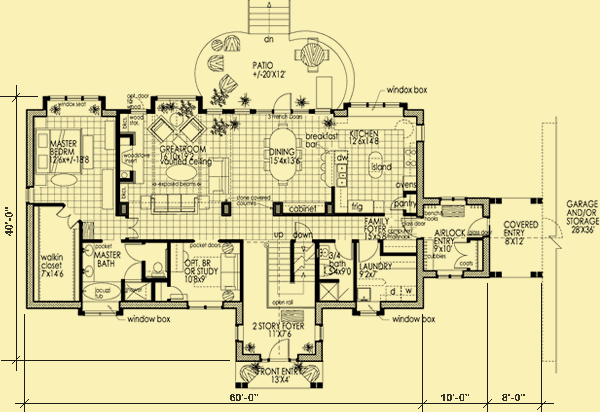bathroom has a shower space with small and large sink: (315, 239, 355, 311)
hall has a dining table for eating: (240, 111, 316, 217)
kitchen has a kitchen counter with cooking range: (319, 103, 423, 214)
laundry room has washer and dryer: (354, 238, 424, 313)
livingroom has a large sofa: (170, 238, 243, 308)
livingroom has small and large sofas with tables: (119, 97, 232, 242)
master bathroom has dual sink with bathtub, sink and shower: (77, 241, 170, 318)
master bedroom has a double bed: (26, 96, 115, 208)
